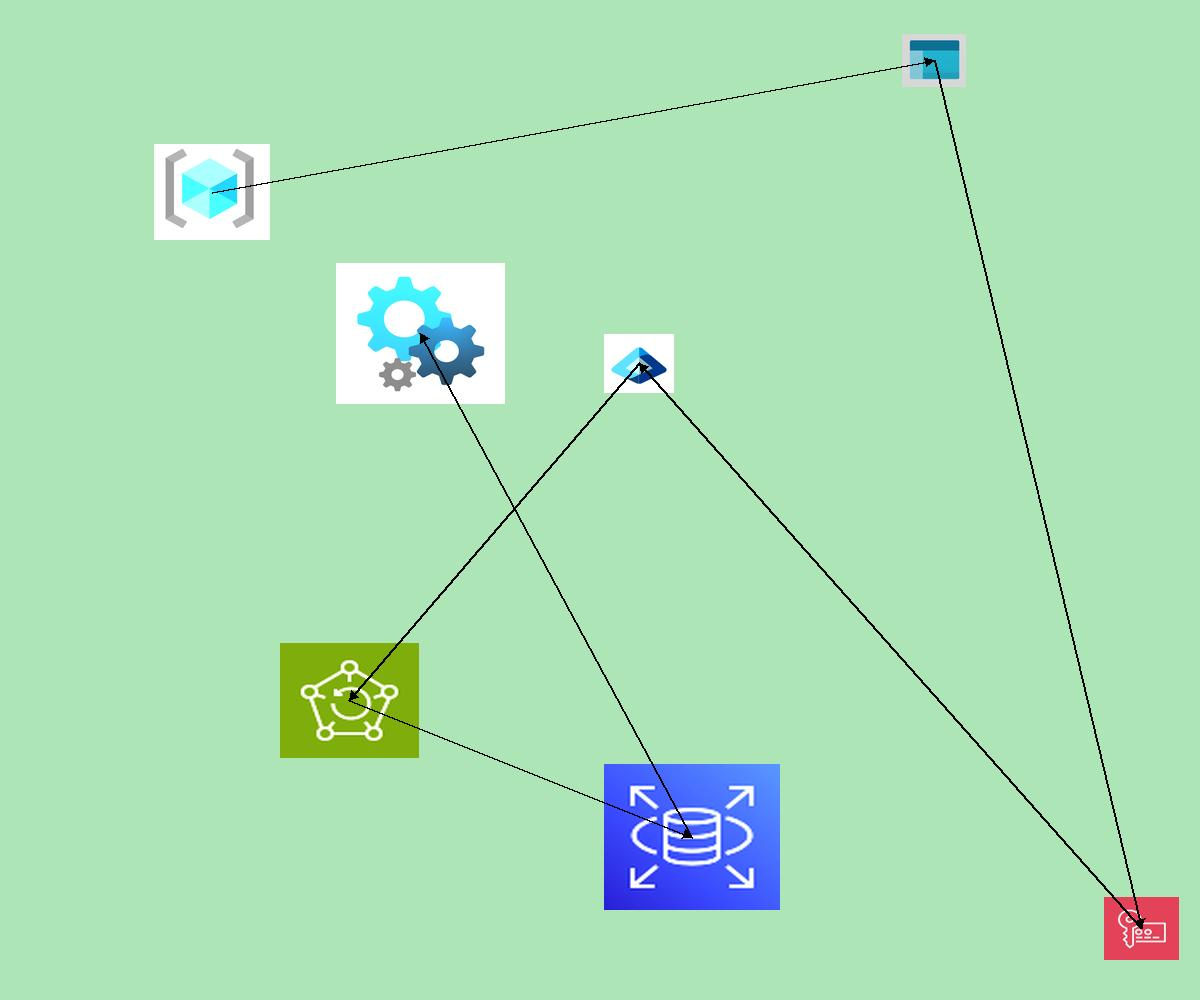AWS-Backup: (280, 643, 419, 758)
AWS-Key-Management-Service: (1104, 897, 1179, 960)
AWS-RDS: (604, 764, 780, 910)
Azure_api: (336, 263, 505, 404)
Azure_management-portal: (902, 34, 966, 87)
Azure_microsoft_entra: (604, 334, 674, 393)
Azure_resource_group: (154, 144, 270, 240)
